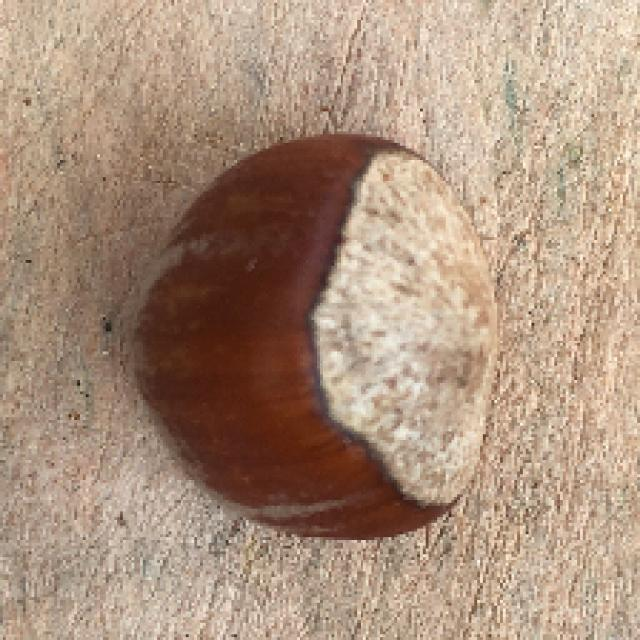qualityHazelnut: (125, 130, 507, 556)
